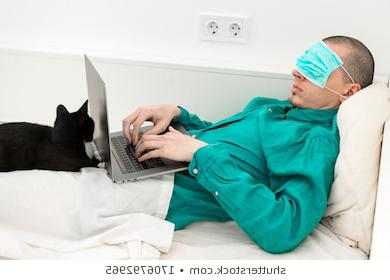mask_weared_incorrect: (289, 38, 348, 106)
